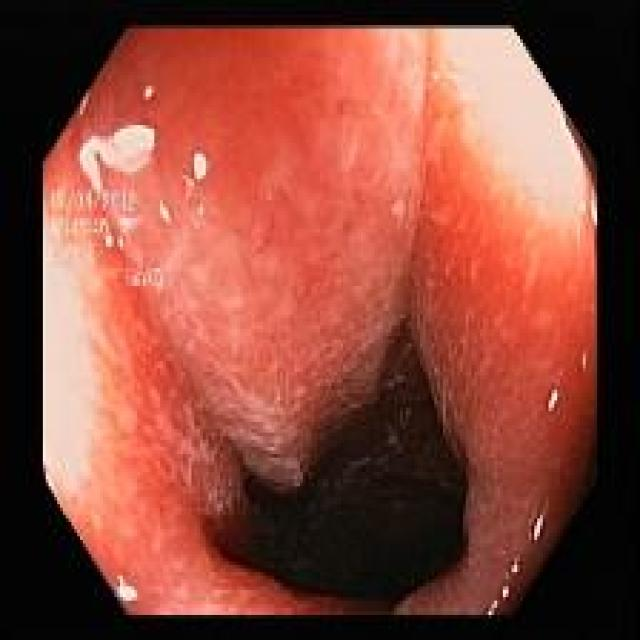ulcerative-colitis: (44, 28, 596, 615)
